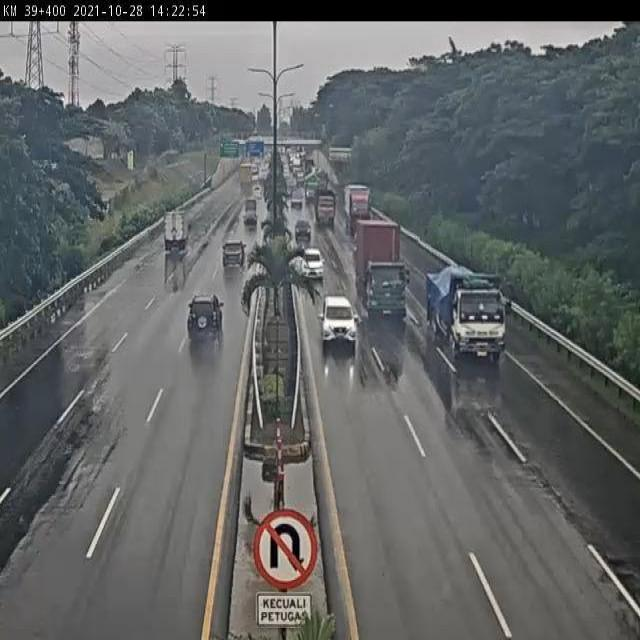big truck: (427, 264, 513, 360), (355, 216, 407, 317), (316, 188, 337, 225)
car: (186, 292, 225, 341), (321, 293, 356, 343), (165, 212, 192, 255), (301, 248, 325, 280), (223, 239, 247, 269), (295, 219, 314, 241)
